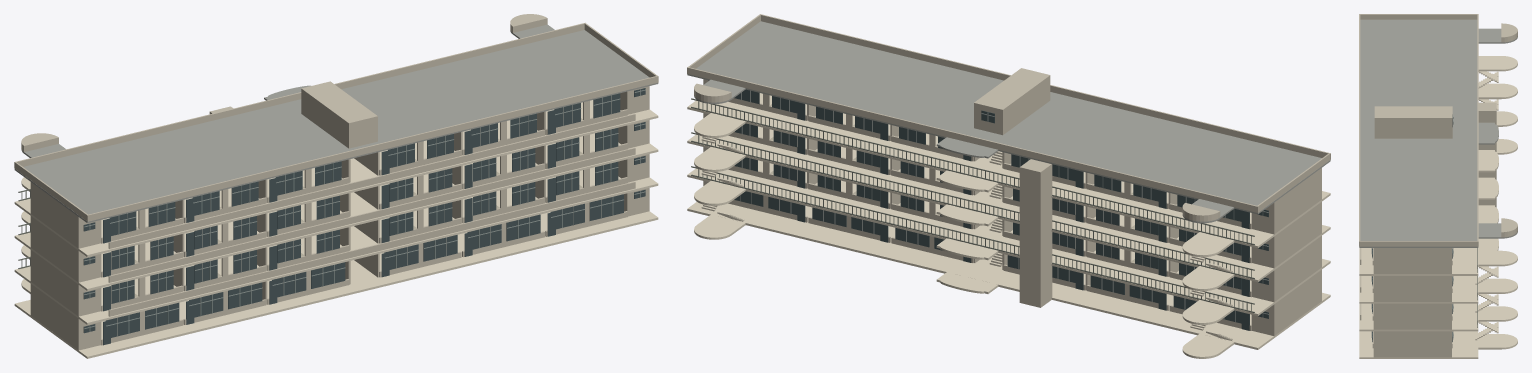
File: teaching.glb
3 renders of one model, left to right at view 1: azimuth 30°, elevation 25°; view 2: azimuth 150°, elevation 25°; view 3: azimuth 270°, elevation 25°, orthographic. The views are drawn at different scales.
Visible parts, largest first — view 1: d0c8b6, a9aaa3, 4e5e61, e5ddc9, 9da6a1; view 2: e5ddc9, d0c8b6, a9aaa3, 4e5e61, 777c72, 9da6a1; view 3: a9aaa3, d0c8b6, e5ddc9.
Boxes of the visible parts, bbox=[...] form: d0c8b6: bbox=[14, 14, 658, 350]; a9aaa3: bbox=[14, 24, 658, 223]; 4e5e61: bbox=[83, 88, 645, 345]; e5ddc9: bbox=[14, 100, 658, 358]; 9da6a1: bbox=[84, 89, 645, 336]; e5ddc9: bbox=[687, 93, 1330, 358]; d0c8b6: bbox=[687, 14, 1330, 335]; a9aaa3: bbox=[687, 21, 1330, 223]; 4e5e61: bbox=[708, 80, 1268, 330]; 777c72: bbox=[691, 98, 1254, 312]; 9da6a1: bbox=[740, 90, 1268, 322]; a9aaa3: bbox=[1359, 19, 1517, 247]; d0c8b6: bbox=[1359, 14, 1517, 357]; e5ddc9: bbox=[1359, 56, 1517, 358].
Size of the model in its own units: 68.7 by 18.7 by 20.26.
